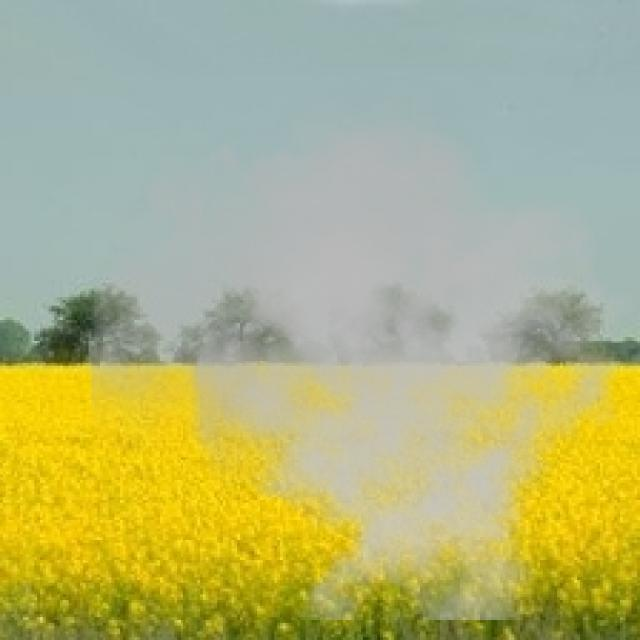Smoke: (85, 68, 638, 623)
